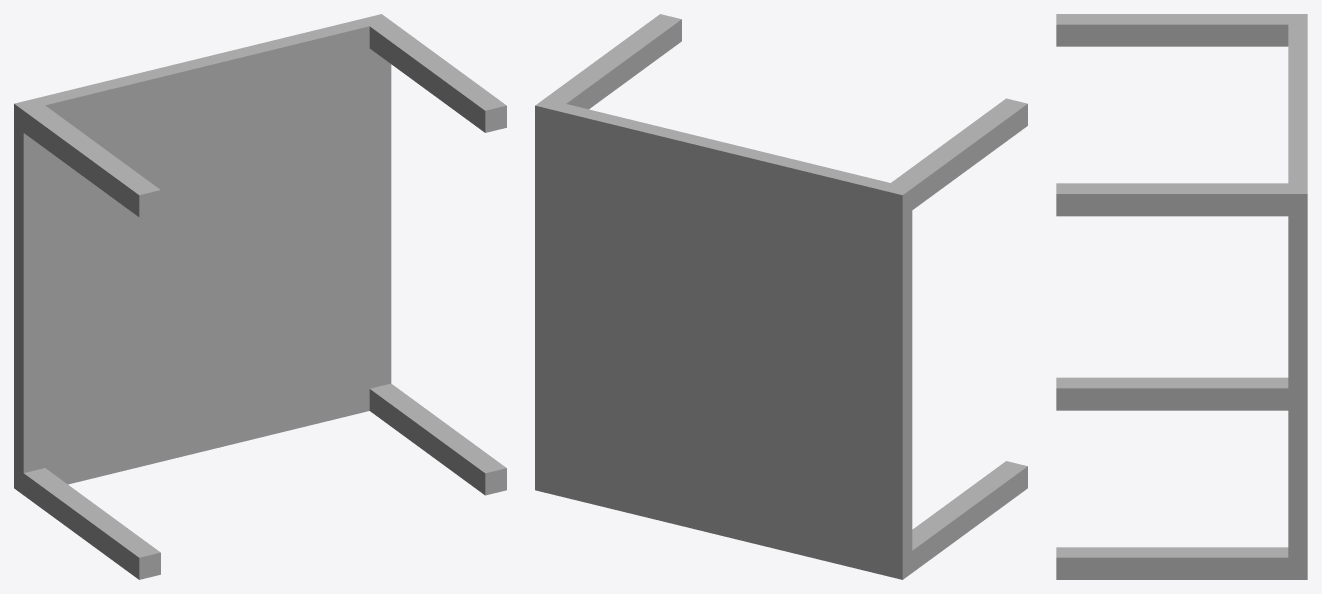
Rendered from store-plastic-table.obj.
3 views of the same model, side by side, from view 1: azimuth 30°, elevation 25°; view 2: azimuth 150°, elevation 25°; view 3: azimuth 270°, elevation 25° (orthographic).
Visible parts, largest first — view 1: store-plastic-table_Circle.020; view 2: store-plastic-table_Circle.020; view 3: store-plastic-table_Circle.020.
Part boxes in pixels (x1,y1,x2,y2): store-plastic-table_Circle.020: (14, 14, 506, 579); store-plastic-table_Circle.020: (535, 14, 1027, 579); store-plastic-table_Circle.020: (1056, 14, 1307, 579).
Size of the model in its own units: 1.37 by 1.37 by 0.8103.
